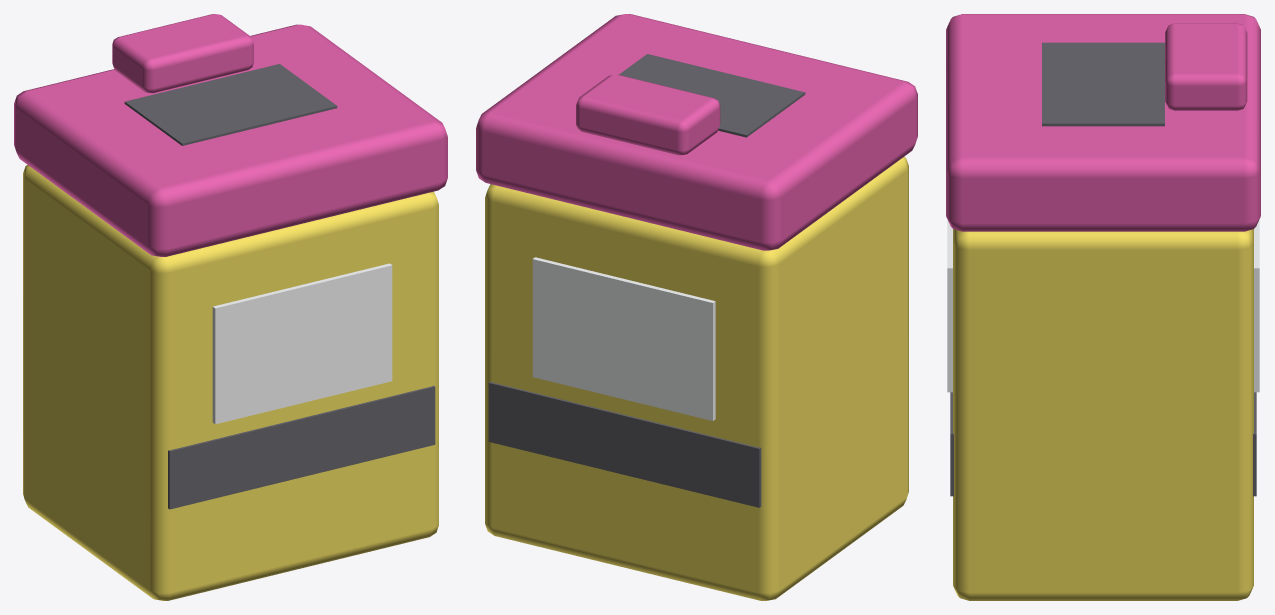
The model's file is tattoo-and-piercing-studio-sharps-bin-a379b087__34540.glb.
3 views of the same model, side by side, from view 1: azimuth 30°, elevation 25°; view 2: azimuth 150°, elevation 25°; view 3: azimuth 270°, elevation 25° (orthographic). The views are drawn at different scales.
Visible parts, largest first — view 1: sharps-bin; view 2: sharps-bin; view 3: sharps-bin.
Part boxes in pixels (x1,y1,x2,y2): sharps-bin: (14, 14, 447, 600); sharps-bin: (476, 14, 917, 600); sharps-bin: (946, 14, 1260, 600).
Size of the model in its own units: 0.27 by 0.39 by 0.23.
